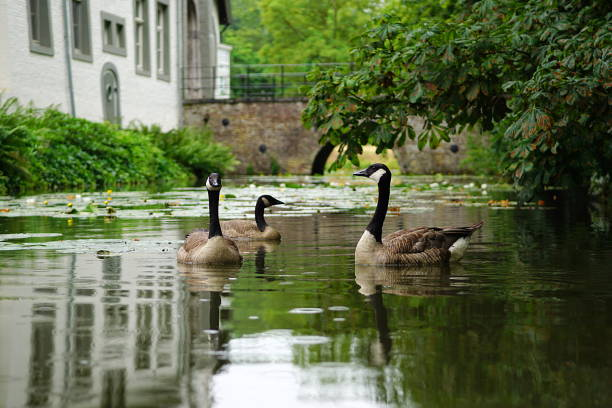goose: (348, 161, 484, 270), (176, 170, 245, 270), (202, 193, 287, 241)
